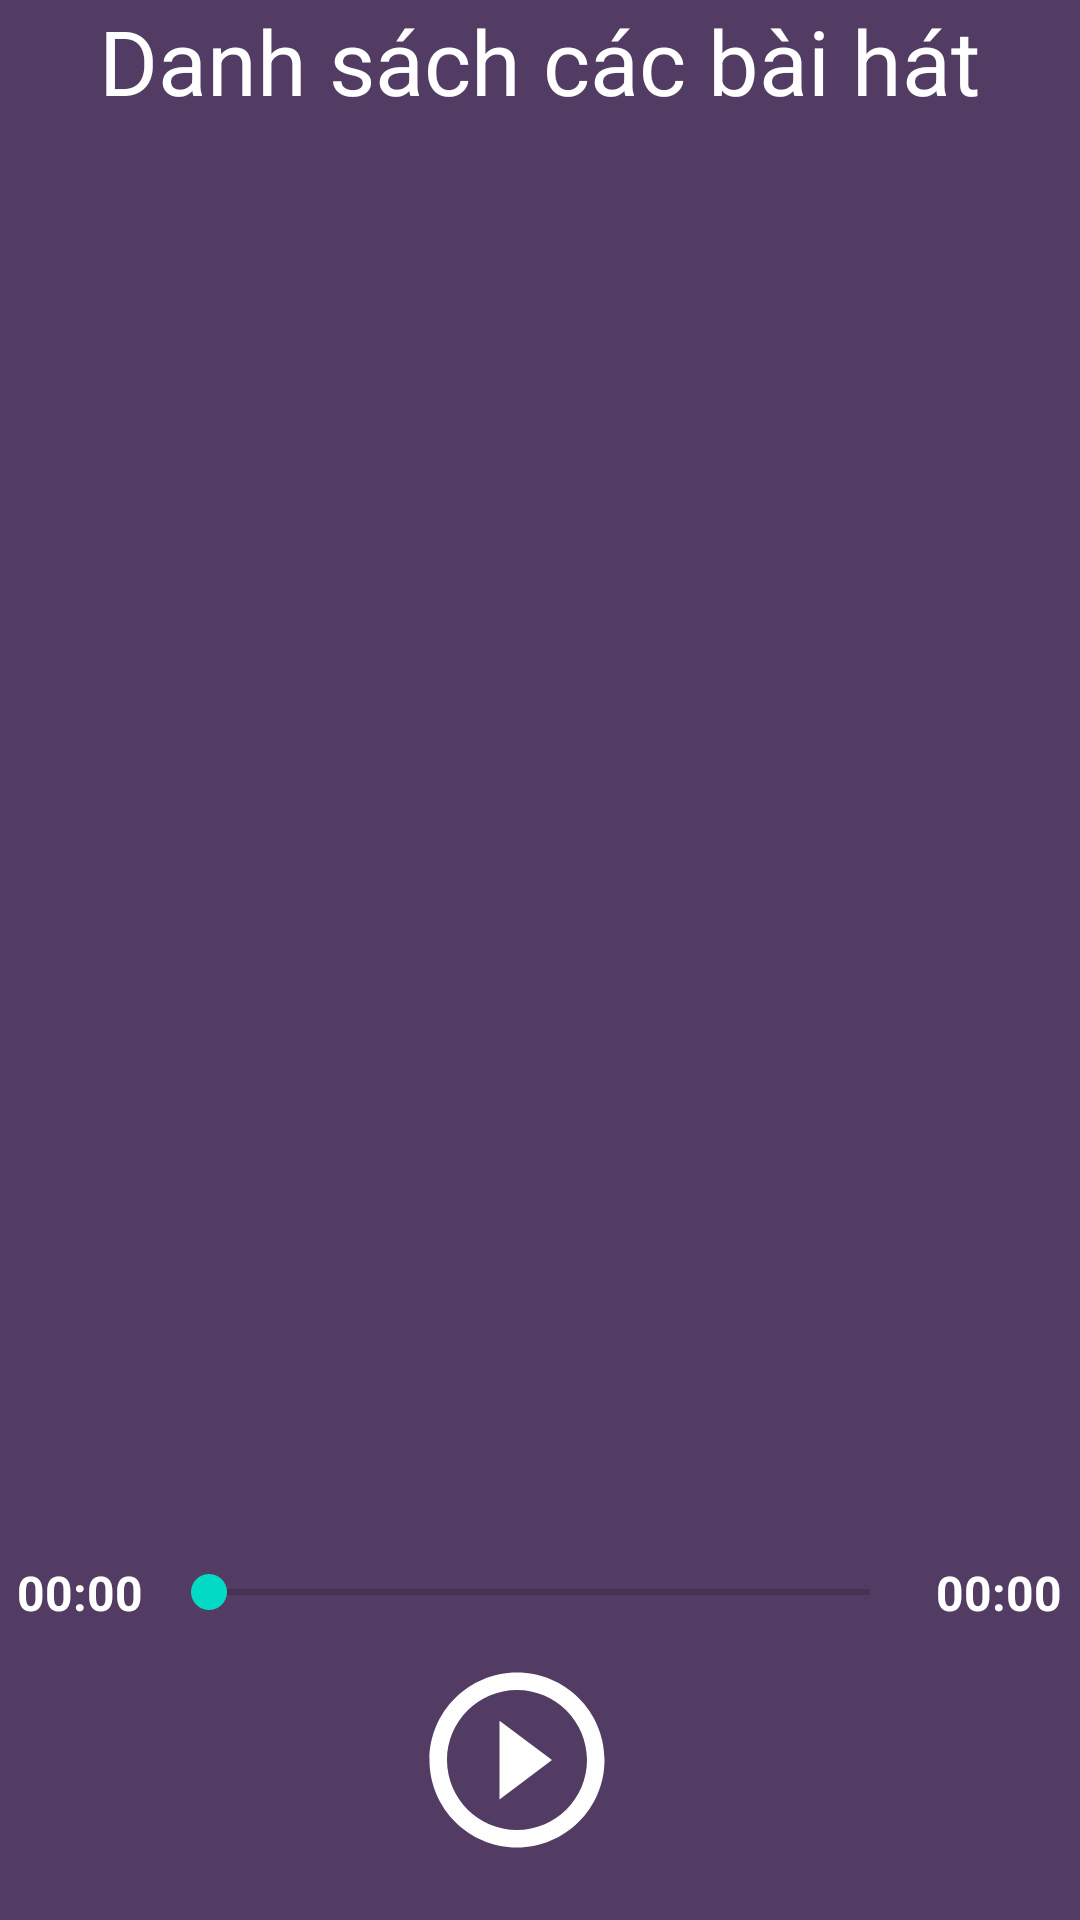

Icons on this 1080x1920 Android screen, each with the point to tap as (x,y):
play: (517,1760)
